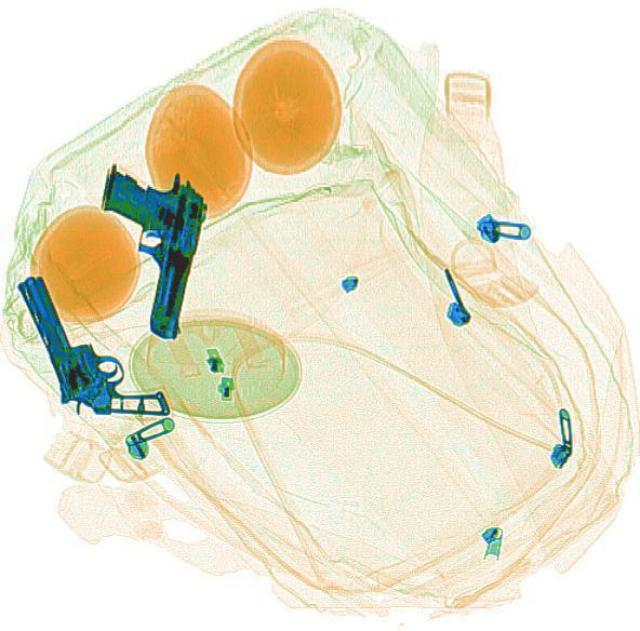Gun: (11, 251, 171, 440), (69, 154, 215, 339)
